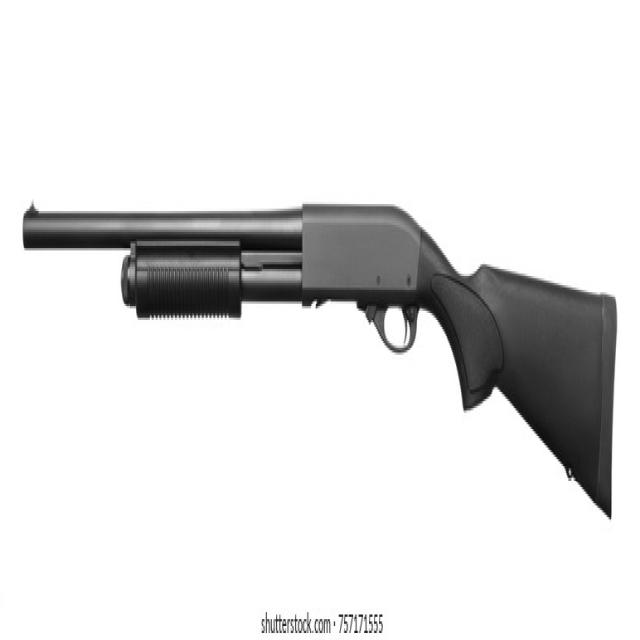Weapon: (23, 206, 616, 512)
